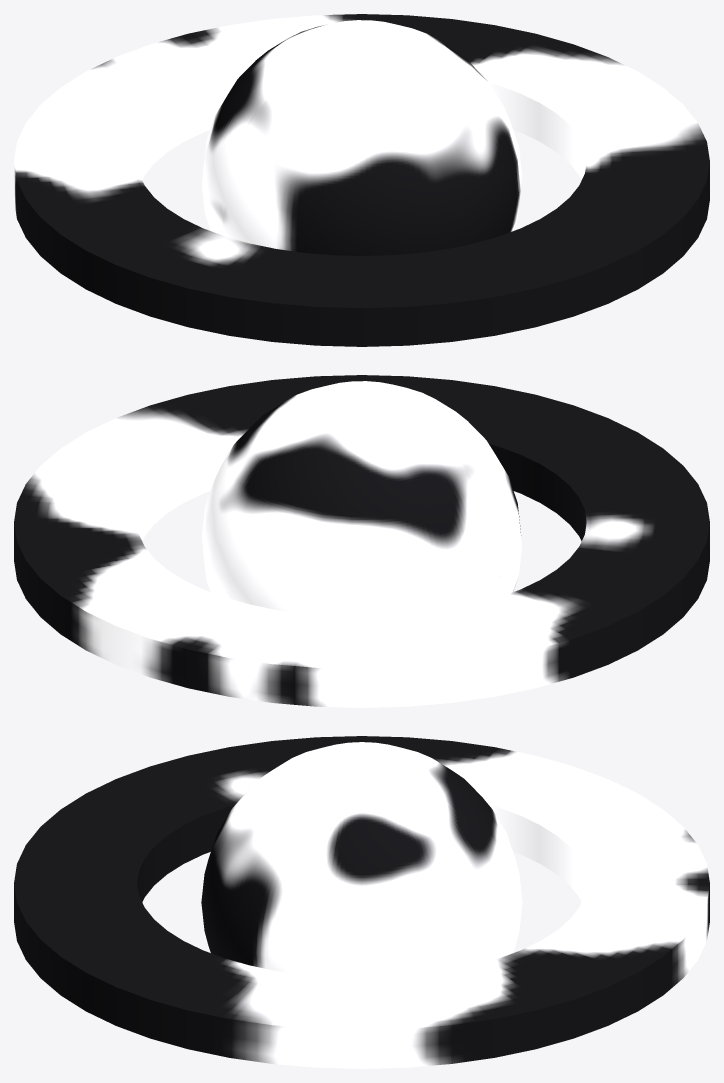
File: item-6-7.glb
3 renders of one model, top to bottom at view 1: azimuth 30°, elevation 25°; view 2: azimuth 150°, elevation 25°; view 3: azimuth 270°, elevation 25°, orthographic.
Parts seen in each view (by area): view 1: plat, planet; view 2: plat, planet; view 3: plat, planet.
Boxes of the visible parts, left/top/right/bottom form: plat: left=14, top=14, right=709, bottom=346; planet: left=202, top=20, right=521, bottom=255; plat: left=14, top=375, right=709, bottom=707; planet: left=202, top=381, right=521, bottom=616; plat: left=14, top=736, right=709, bottom=1068; planet: left=201, top=742, right=522, bottom=977.
Size of the model in its own units: 1.3 by 0.6 by 1.3.
Materials: 2 (2 with a texture image).
